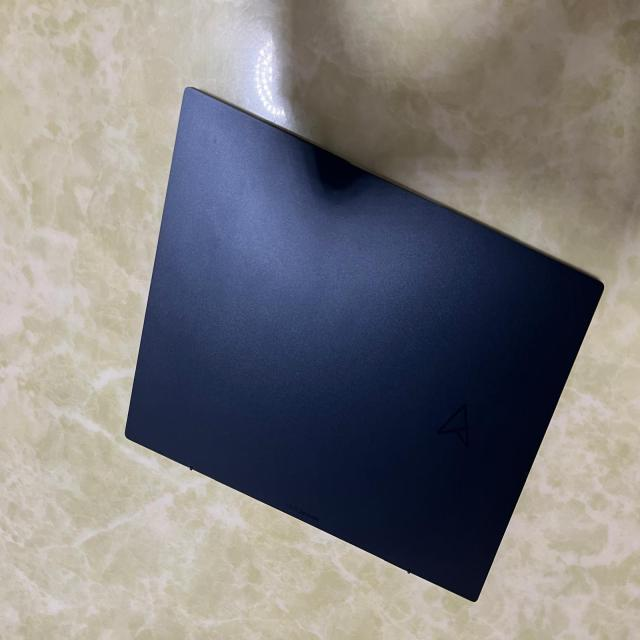laptop: (123, 85, 604, 602)
